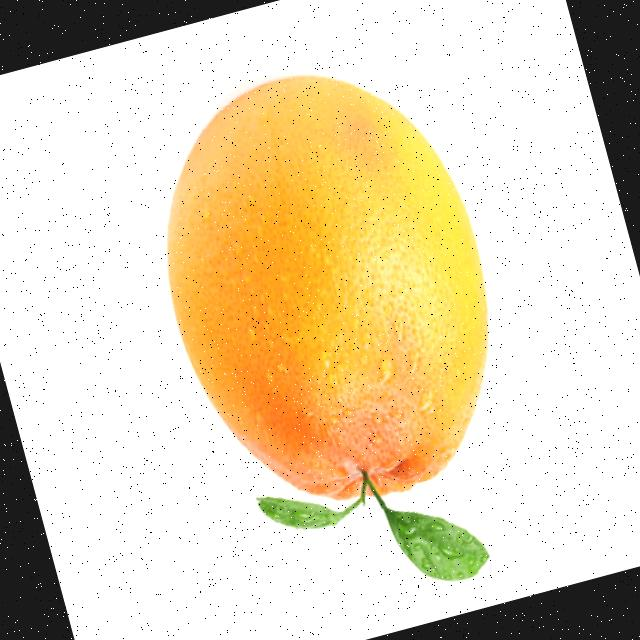Ripe: (119, 36, 536, 536)
